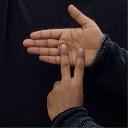hand: (22, 3, 104, 68), (47, 43, 84, 123)
